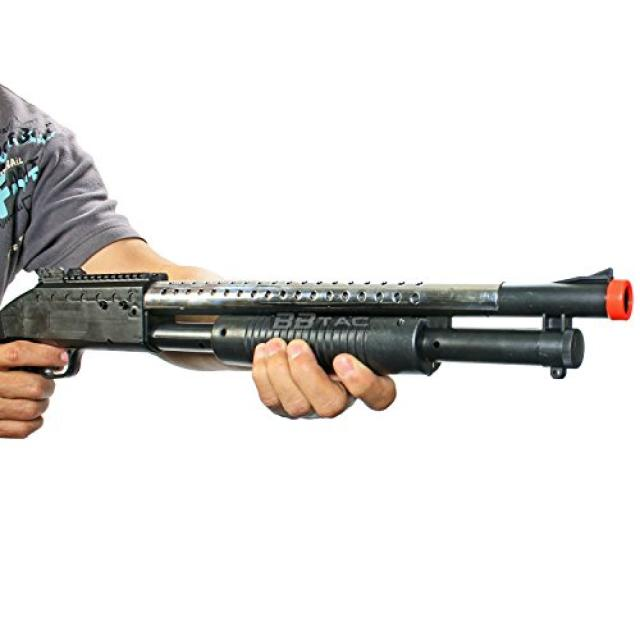ShotGun: (0, 269, 636, 380)
